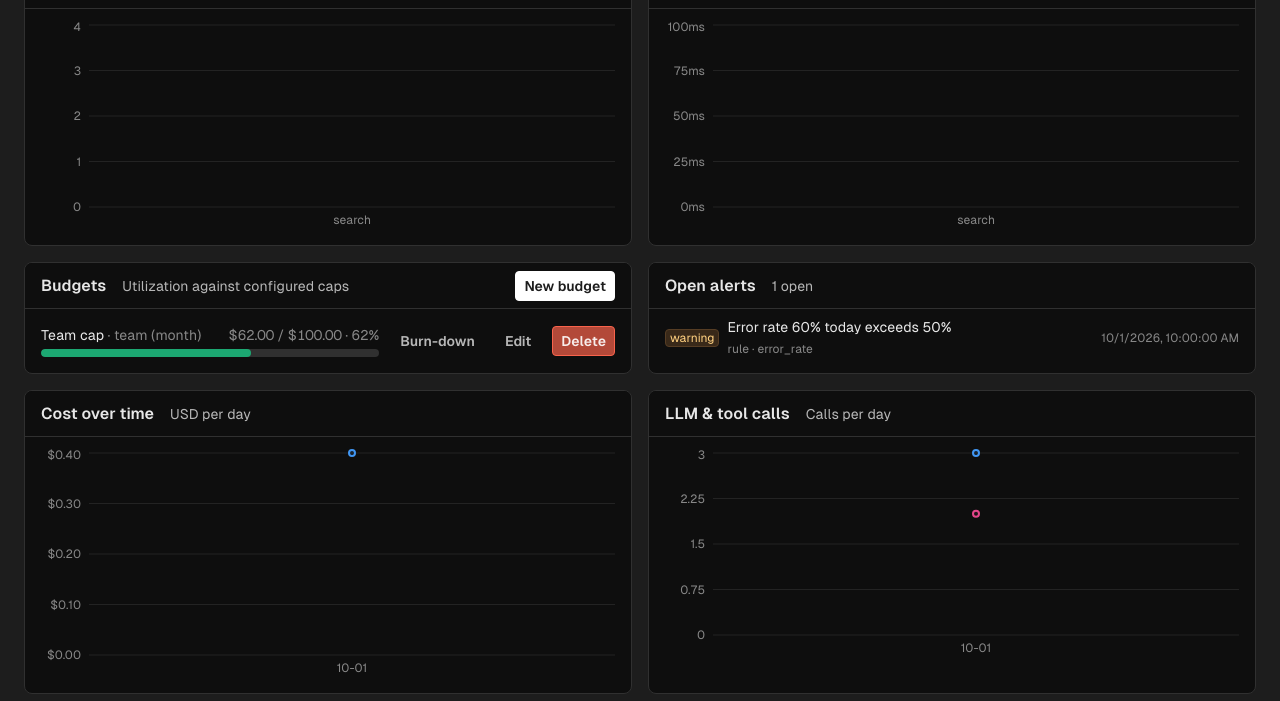
Scenario: Manager › opens the budget burn-down chart
(page scrolled)
What coordinates should you click on to do the following:
click the button "Burn-down"
I would click on:
 (438, 341)
Its box is [391, 326, 484, 356].
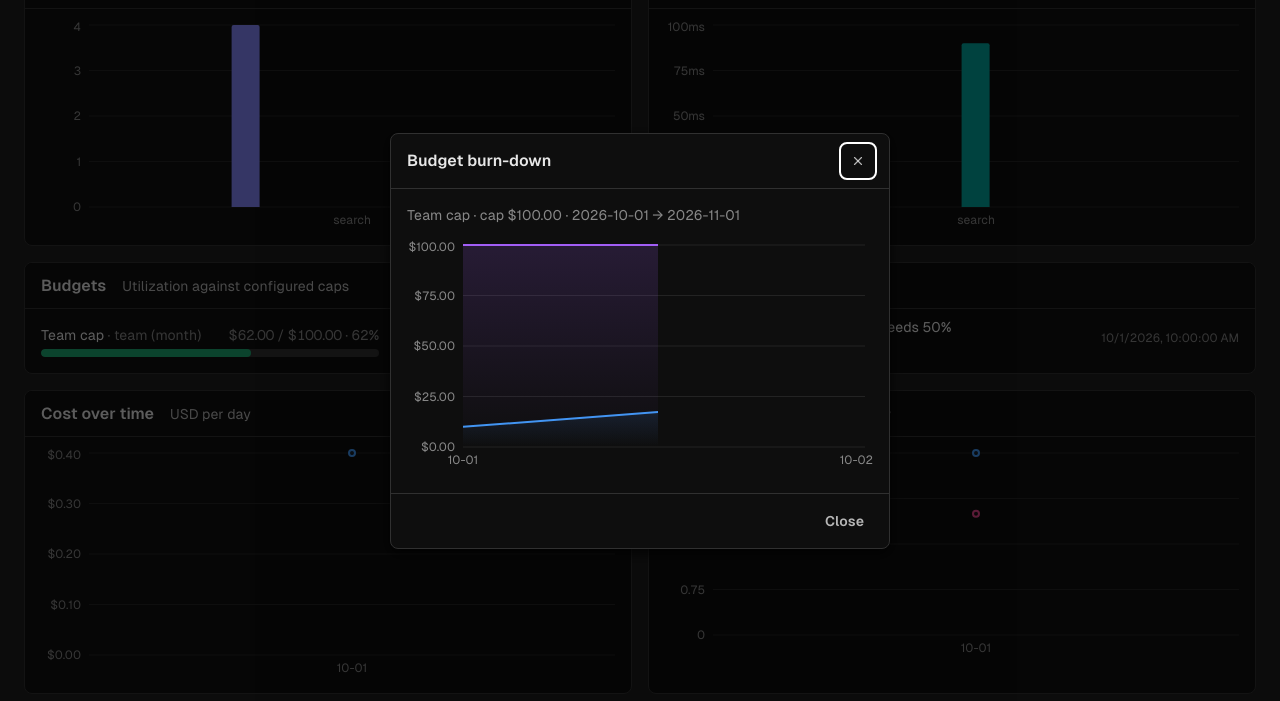
Check: the heading "Budget burn-down" is shown, box [407, 147, 551, 175]
